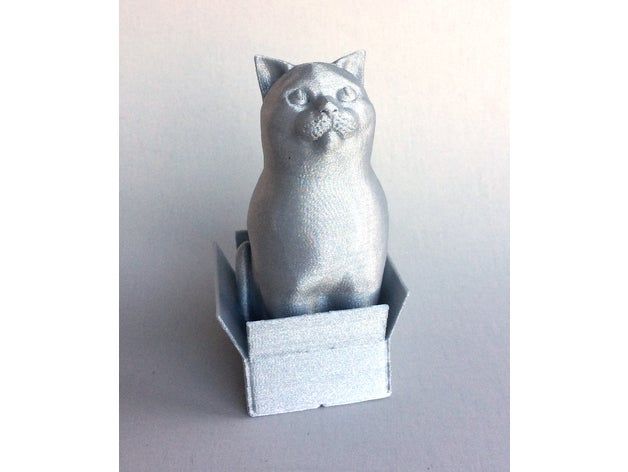Good: (192, 35, 440, 427)
